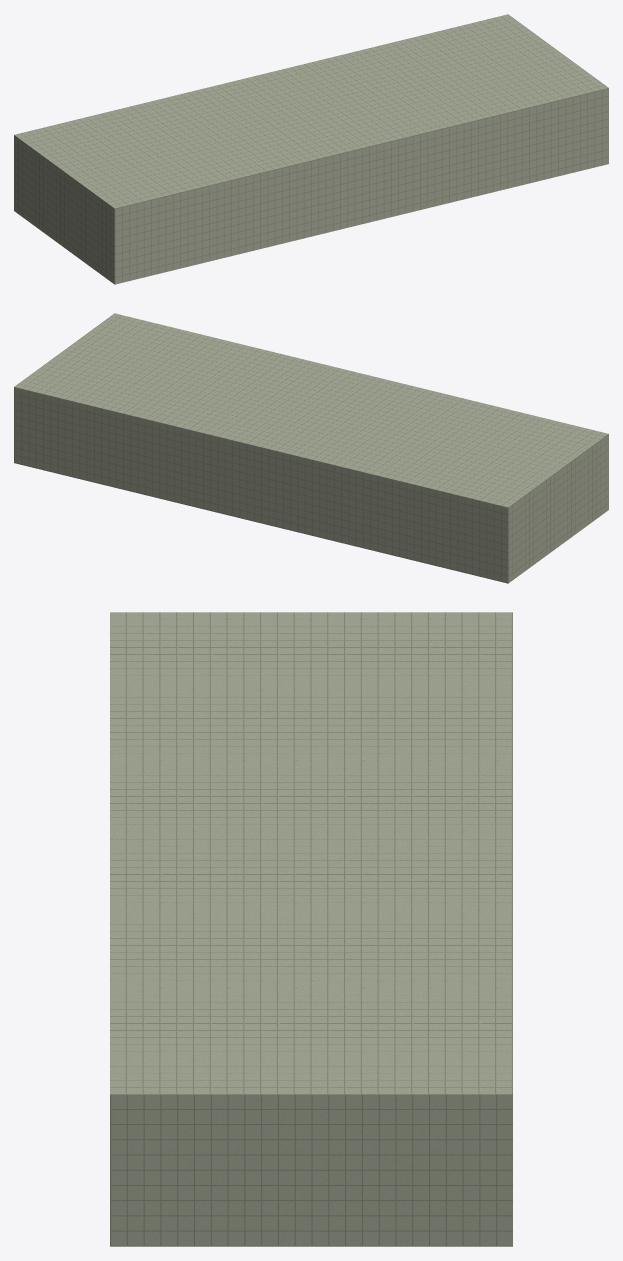
Rendered from arrival-terrace.obj.
3 renders of one model, top to bottom at view 1: azimuth 30°, elevation 25°; view 2: azimuth 150°, elevation 25°; view 3: azimuth 270°, elevation 25°, orthographic. The views are drawn at different scales.
Bounding box in the file's own units: 34 × 5 × 12.
1 material, 1 textured.
